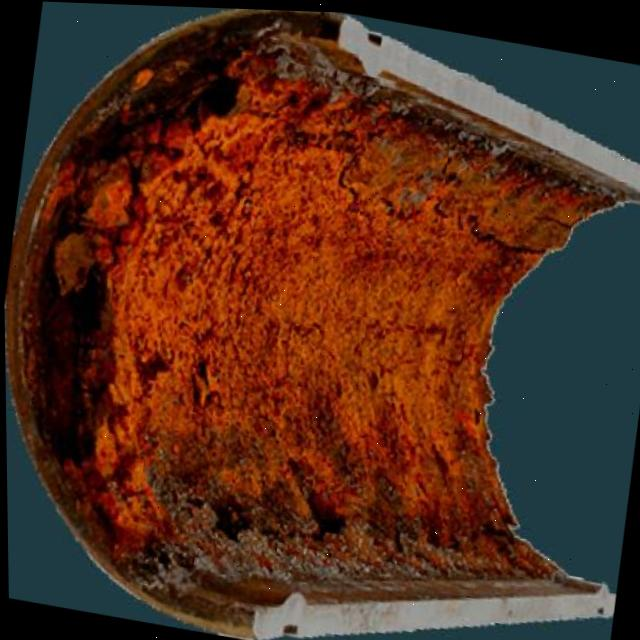Dry: (37, 35, 635, 565)
